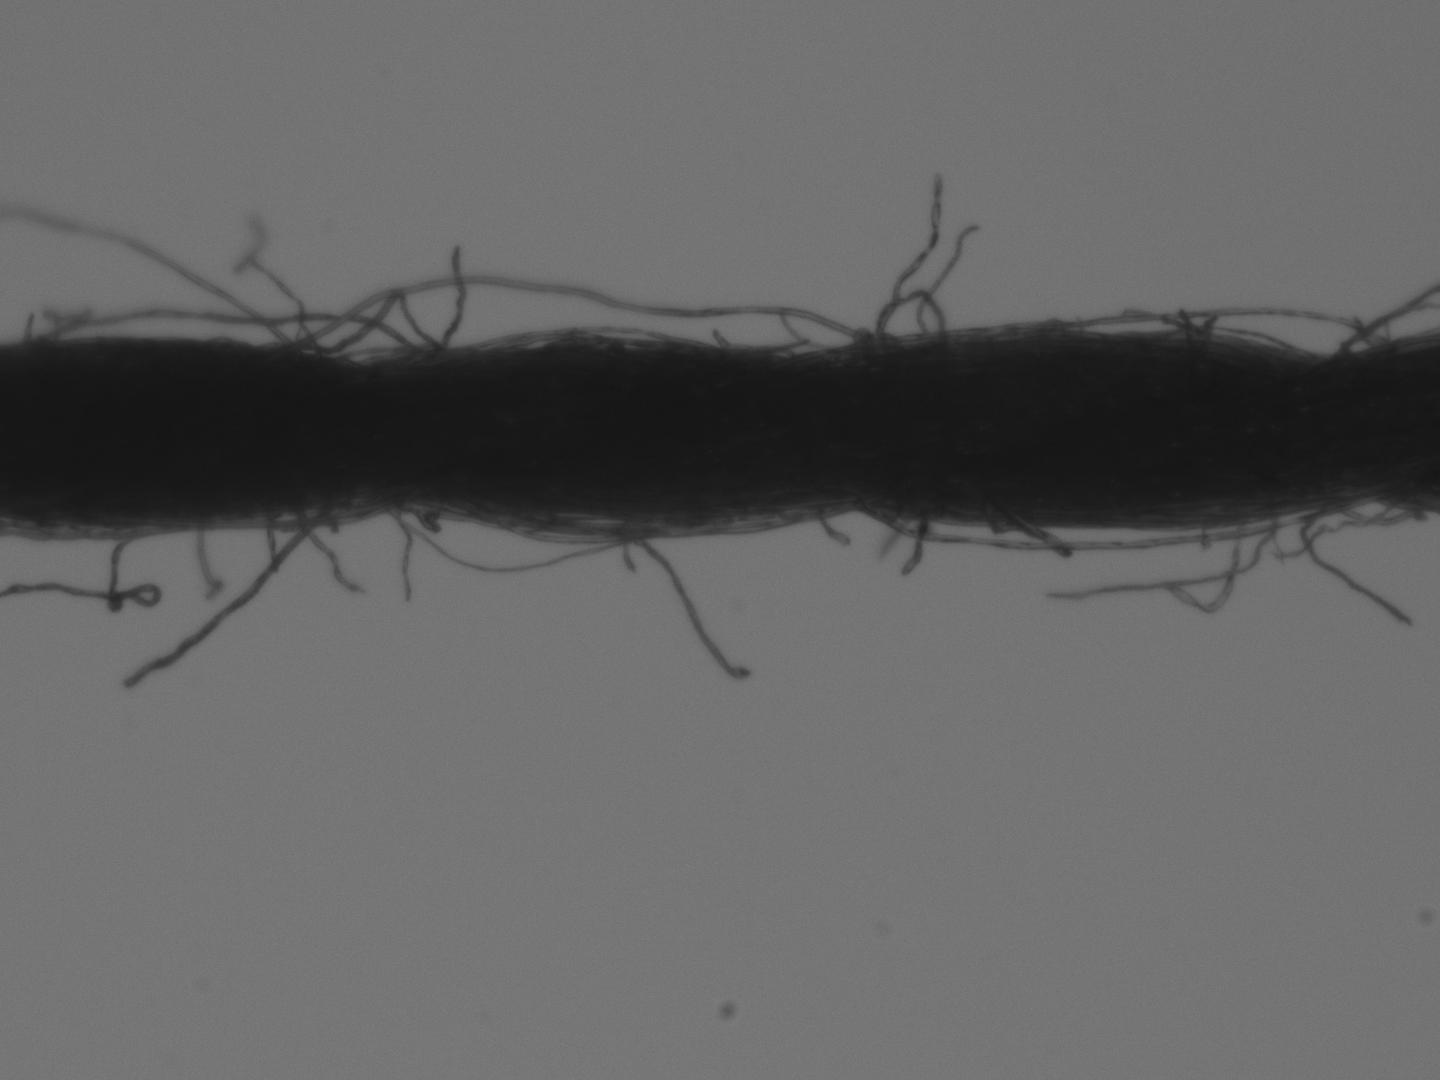loop_fiber: (277, 273, 865, 360), (861, 511, 1301, 554), (51, 305, 416, 354), (1056, 303, 1379, 352), (392, 506, 622, 573), (319, 281, 439, 360), (873, 290, 945, 343), (1159, 320, 1288, 344)
protruding_fiber: (120, 520, 317, 691), (609, 529, 746, 683), (875, 172, 942, 336), (296, 518, 369, 596), (432, 246, 466, 351), (897, 514, 927, 581), (815, 509, 847, 547)
